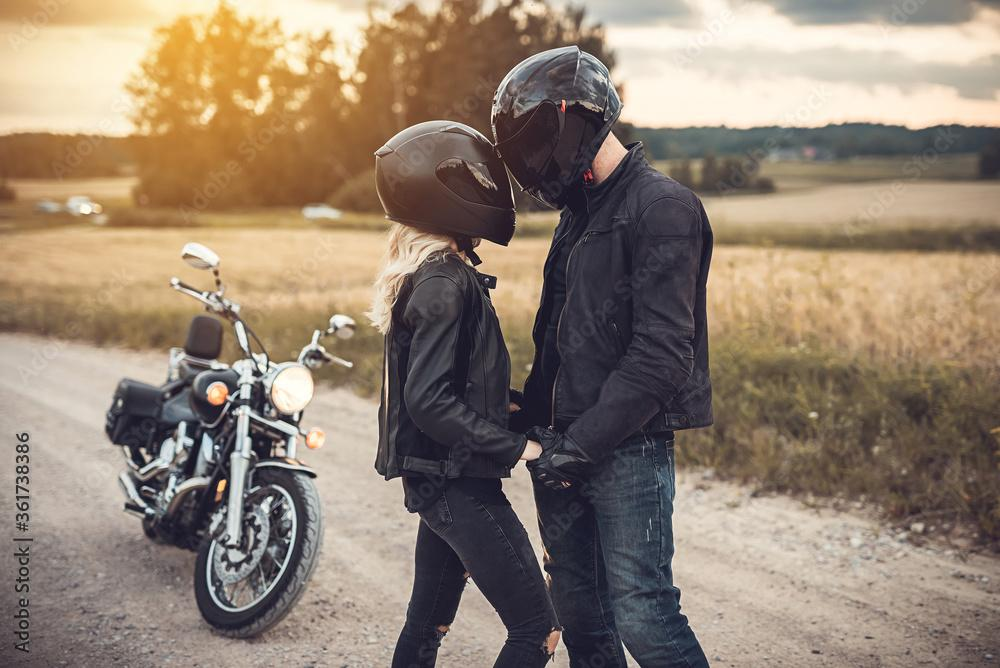helmet: (490, 44, 625, 212), (373, 119, 518, 247)
